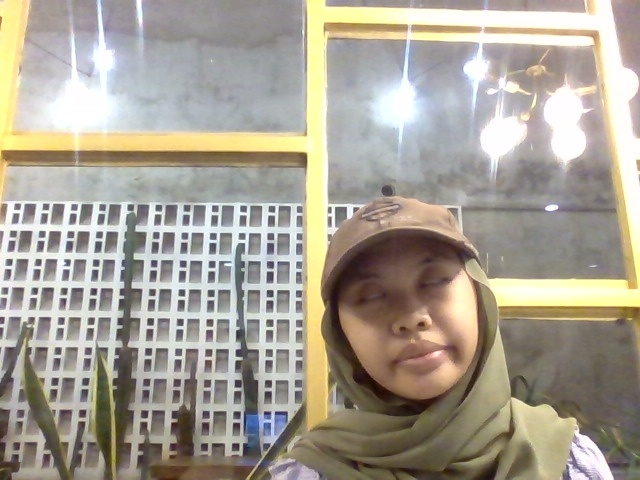Drowsy: (285, 186, 533, 479)
